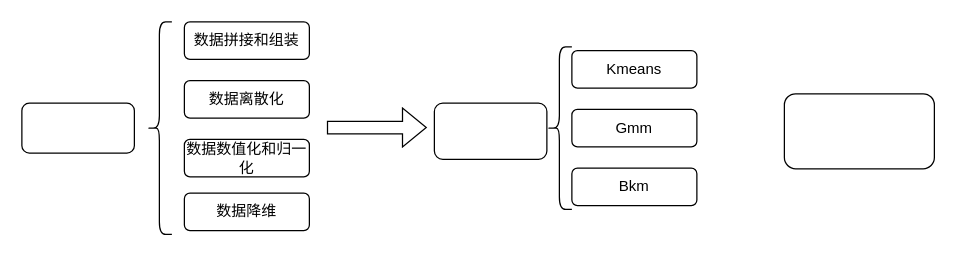
This 956x256 diagram has some shape labels left out. Here are the shapes that lost their labels. From the top down, the box of each, then its label:
(21, 102, 134, 153): 数据预处理
(433, 102, 547, 159): 聚类算法
(783, 92, 934, 169): 算法评价
